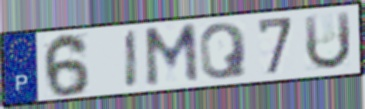6: (41, 30, 93, 98)
7: (256, 15, 295, 78)
I: (123, 27, 140, 90)
M: (142, 21, 202, 90)
Q: (197, 20, 250, 82)
U: (301, 9, 353, 73)
